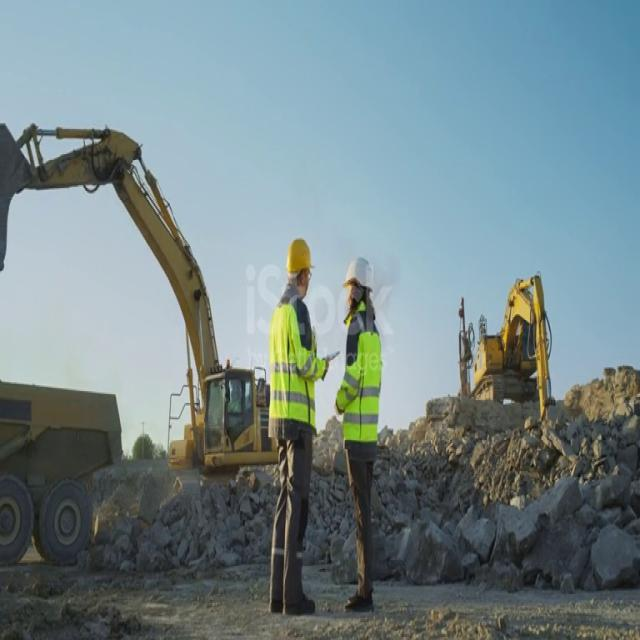capacete: (338, 251, 382, 307), (283, 226, 319, 290)
